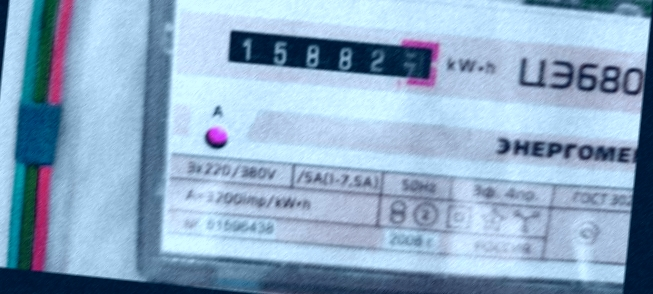1: (238, 35, 255, 62)
2: (368, 47, 385, 72)
5: (270, 38, 289, 65)
7: (400, 58, 416, 78)
8: (303, 42, 321, 69), (336, 44, 353, 71)
screen: (211, 12, 449, 98)
